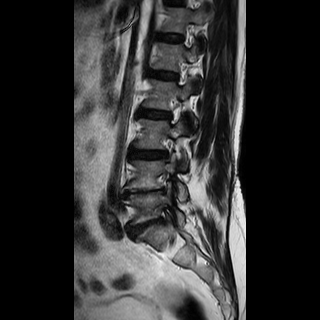RFS0: (169, 55, 195, 92)
